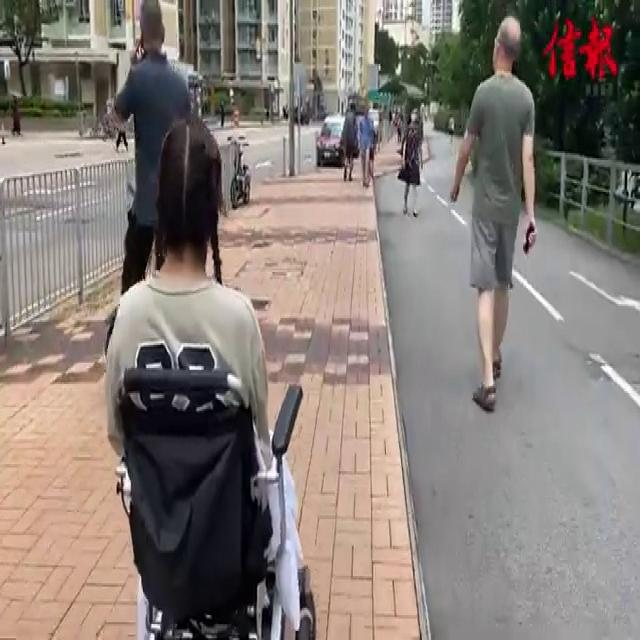wheelchairs: (92, 323, 329, 640)
